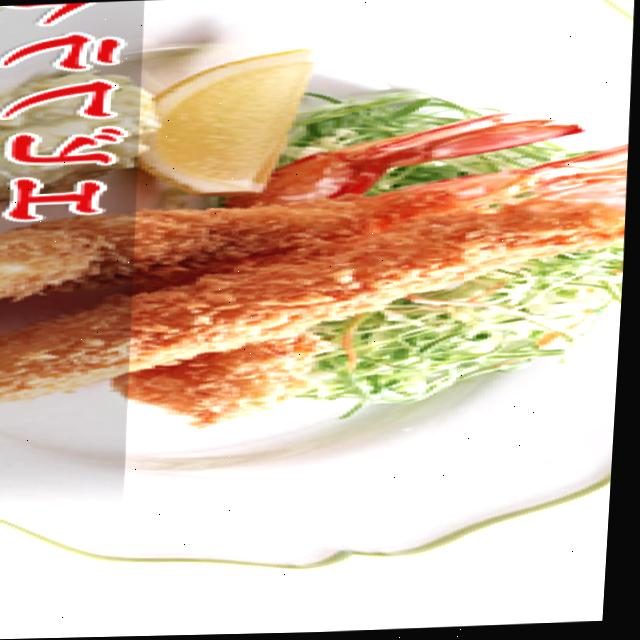炸货点心: (0, 111, 634, 441)
熟制海鲜: (0, 111, 634, 441)
